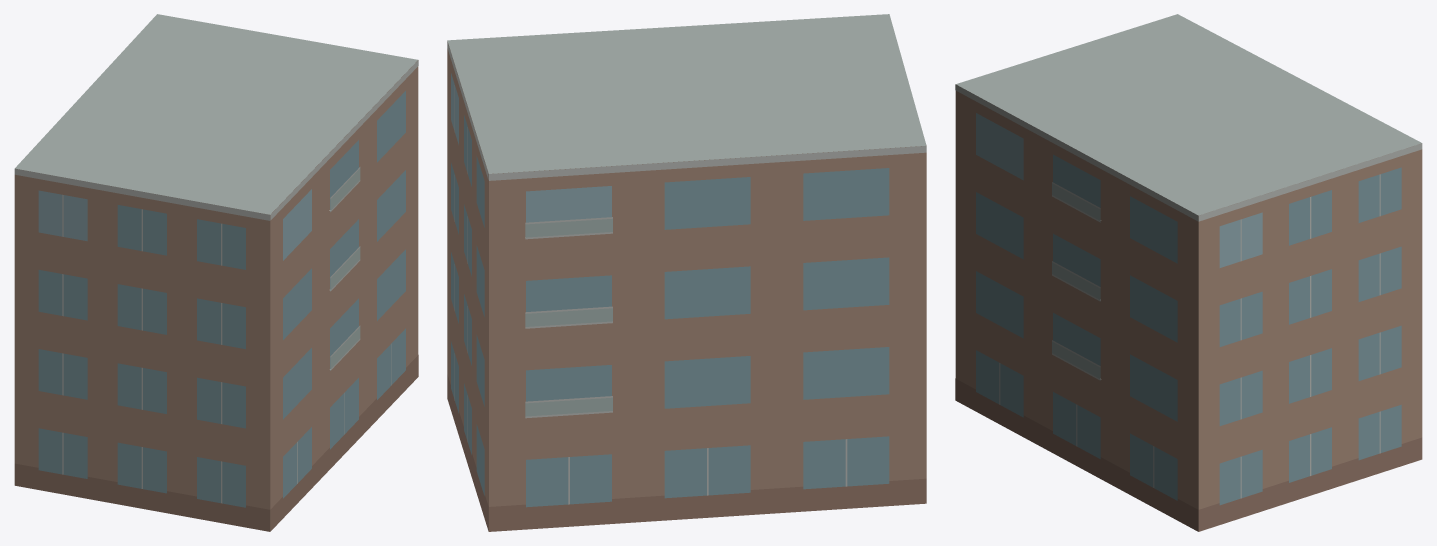
File: survey-upis-32985267.glb
3 views of the same model, side by side, from view 1: azimuth 30°, elevation 25°; view 2: azimuth 150°, elevation 25°; view 3: azimuth 270°, elevation 25° (orthographic). The views are drawn at different scales.
Visible parts, largest first — view 1: survey-upis-32985267.tmp; view 2: survey-upis-32985267.tmp; view 3: survey-upis-32985267.tmp.
Boxes of the visible parts, x1,y1,x2,y2 form: survey-upis-32985267.tmp: (14,14,418,531); survey-upis-32985267.tmp: (447,14,926,531); survey-upis-32985267.tmp: (955,14,1422,531).
Bounding box in the file's own units: 17.23 × 12.6 × 16.86.
